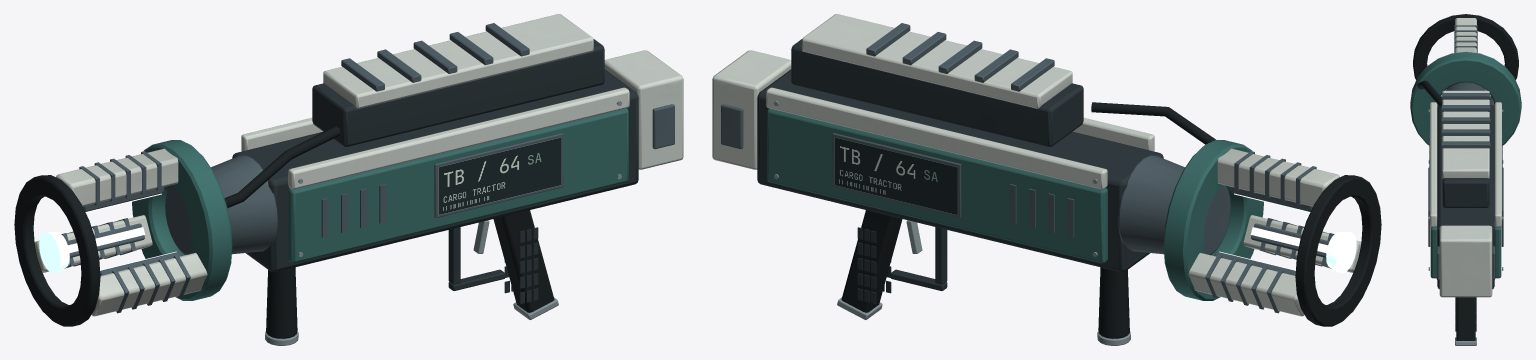
File: tractor-beam-tool.glb
3 renders of one model, left to right at view 1: azimuth 30°, elevation 25°; view 2: azimuth 150°, elevation 25°; view 3: azimuth 270°, elevation 25°, orthographic. The views are drawn at different scales.
Parts seen in each view (by area): view 1: tractor-beam-tool_HandheldFinish, tractor-beam-tool_Mint; view 2: tractor-beam-tool_HandheldFinish, tractor-beam-tool_Mint; view 3: tractor-beam-tool_HandheldFinish.
Part boxes in pixels (box(x1,y1,x2,y2)): tractor-beam-tool_HandheldFinish: box(14, 14, 683, 345); tractor-beam-tool_Mint: box(39, 193, 176, 273); tractor-beam-tool_HandheldFinish: box(712, 14, 1381, 345); tractor-beam-tool_Mint: box(1219, 193, 1356, 273); tractor-beam-tool_HandheldFinish: box(1410, 14, 1521, 345).
Size of the model in its own units: 0.802 by 0.3507 by 0.182.
Materials: 3 (1 with a texture image).
